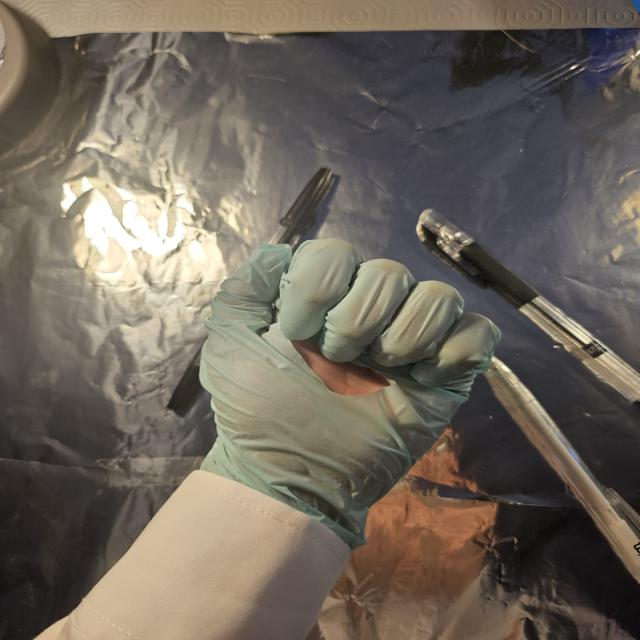gloves_damaged: (179, 220, 504, 546)
